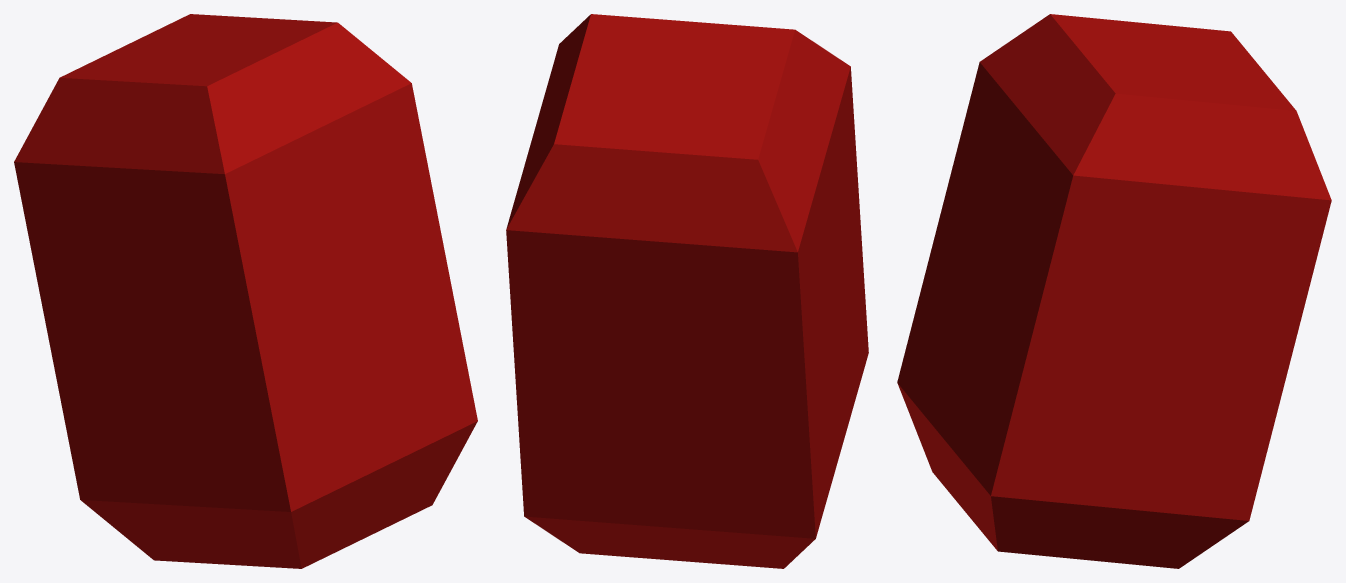
The model's file is town_jewel0001.obj.
3 renders of one model, left to right at view 1: azimuth 30°, elevation 25°; view 2: azimuth 150°, elevation 25°; view 3: azimuth 270°, elevation 25°, orthographic. The views are drawn at different scales.
Parts seen in each view (by area): view 1: RedJewel; view 2: RedJewel; view 3: RedJewel.
Part boxes in pixels (x1,y1,x2,y2): RedJewel: (14, 14, 477, 568); RedJewel: (506, 14, 868, 568); RedJewel: (897, 14, 1331, 568).
Bounding box in the file's own units: 0.8726 × 1.21 × 0.9834.
